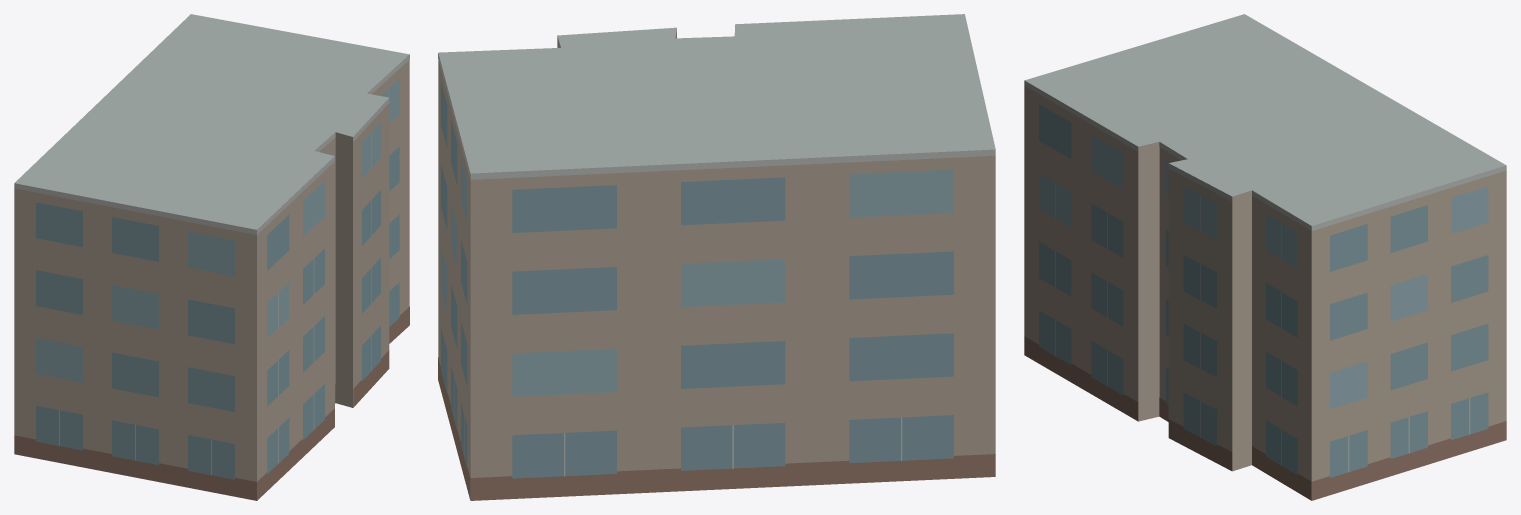
File: survey-upis-32799548.glb
The picture shows the model from 3 angles, left to right: view 1: azimuth 30°, elevation 25°; view 2: azimuth 150°, elevation 25°; view 3: azimuth 270°, elevation 25°; orthographic projection. The views are drawn at different scales.
Visible parts, largest first — view 1: survey-upis-32799548.tmp; view 2: survey-upis-32799548.tmp; view 3: survey-upis-32799548.tmp.
Part boxes in pixels (box(x1,y1,x2,y2)): survey-upis-32799548.tmp: box(14, 14, 409, 500); survey-upis-32799548.tmp: box(438, 14, 995, 500); survey-upis-32799548.tmp: box(1024, 14, 1506, 500).
Bounding box in the file's own units: 21.19 × 12.8 × 20.36.
